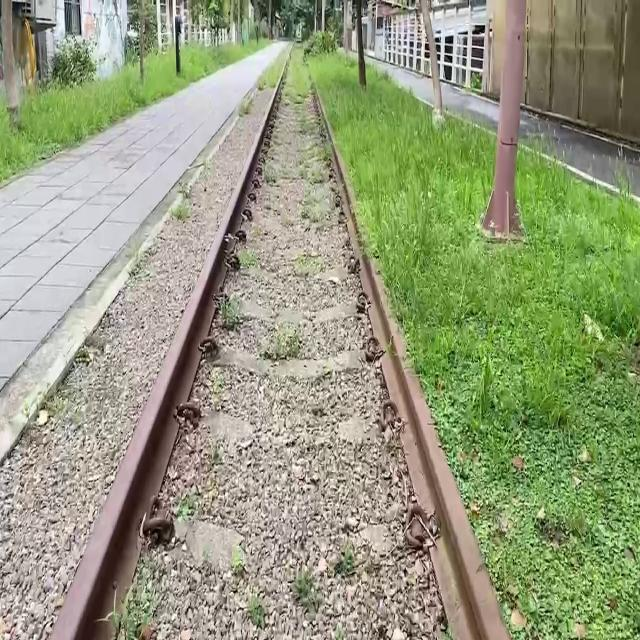rail-track: (118, 48, 444, 640)
